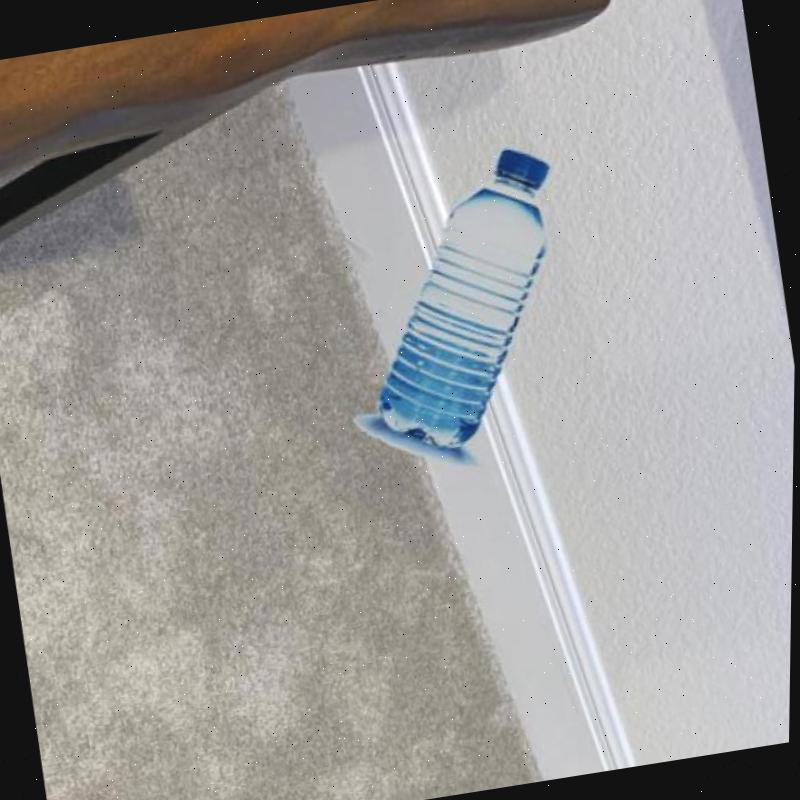botella: (342, 140, 594, 461)
